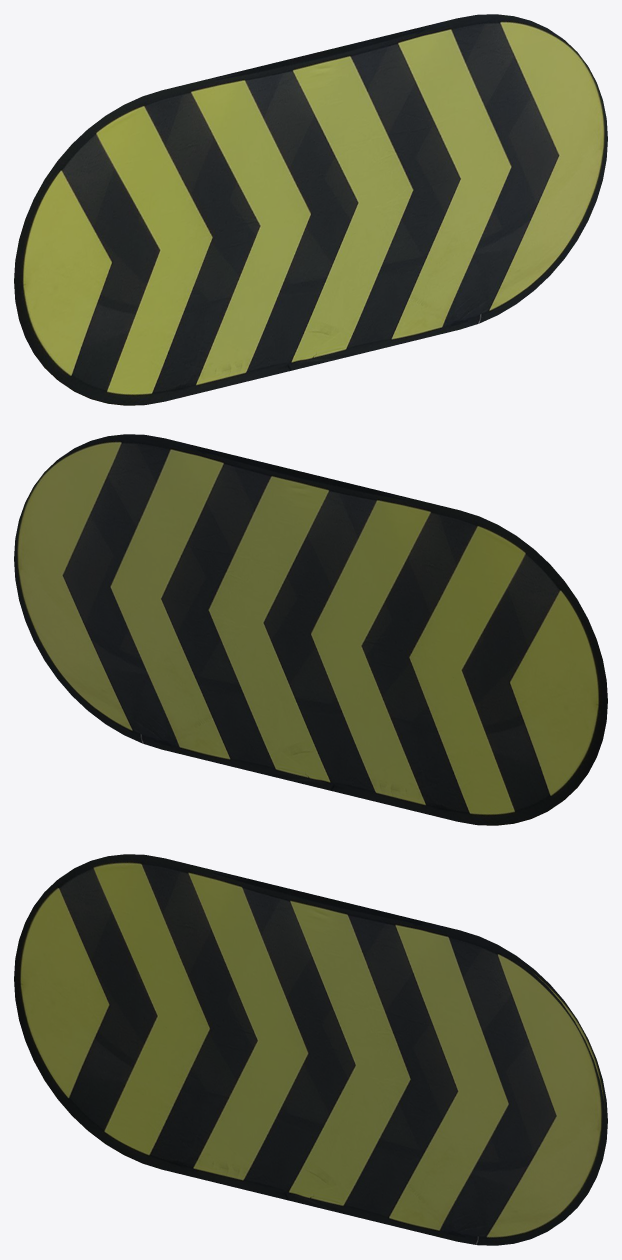
File: Astand.fbx
3 renders of one model, top to bottom at view 1: azimuth 30°, elevation 25°; view 2: azimuth 150°, elevation 25°; view 3: azimuth 330°, elevation 25°, orthographic.
Visible parts, largest first — view 1: pCube80; view 2: pCube80; view 3: pCube80.
Part boxes in pixels (left/top/right/bottom): pCube80: left=14, top=14, right=607, bottom=405; pCube80: left=14, top=434, right=607, bottom=825; pCube80: left=14, top=854, right=607, bottom=1245.
Size of the model in its own units: 150 by 75 by 1.16.
Materials: 1 (1 with a texture image).
